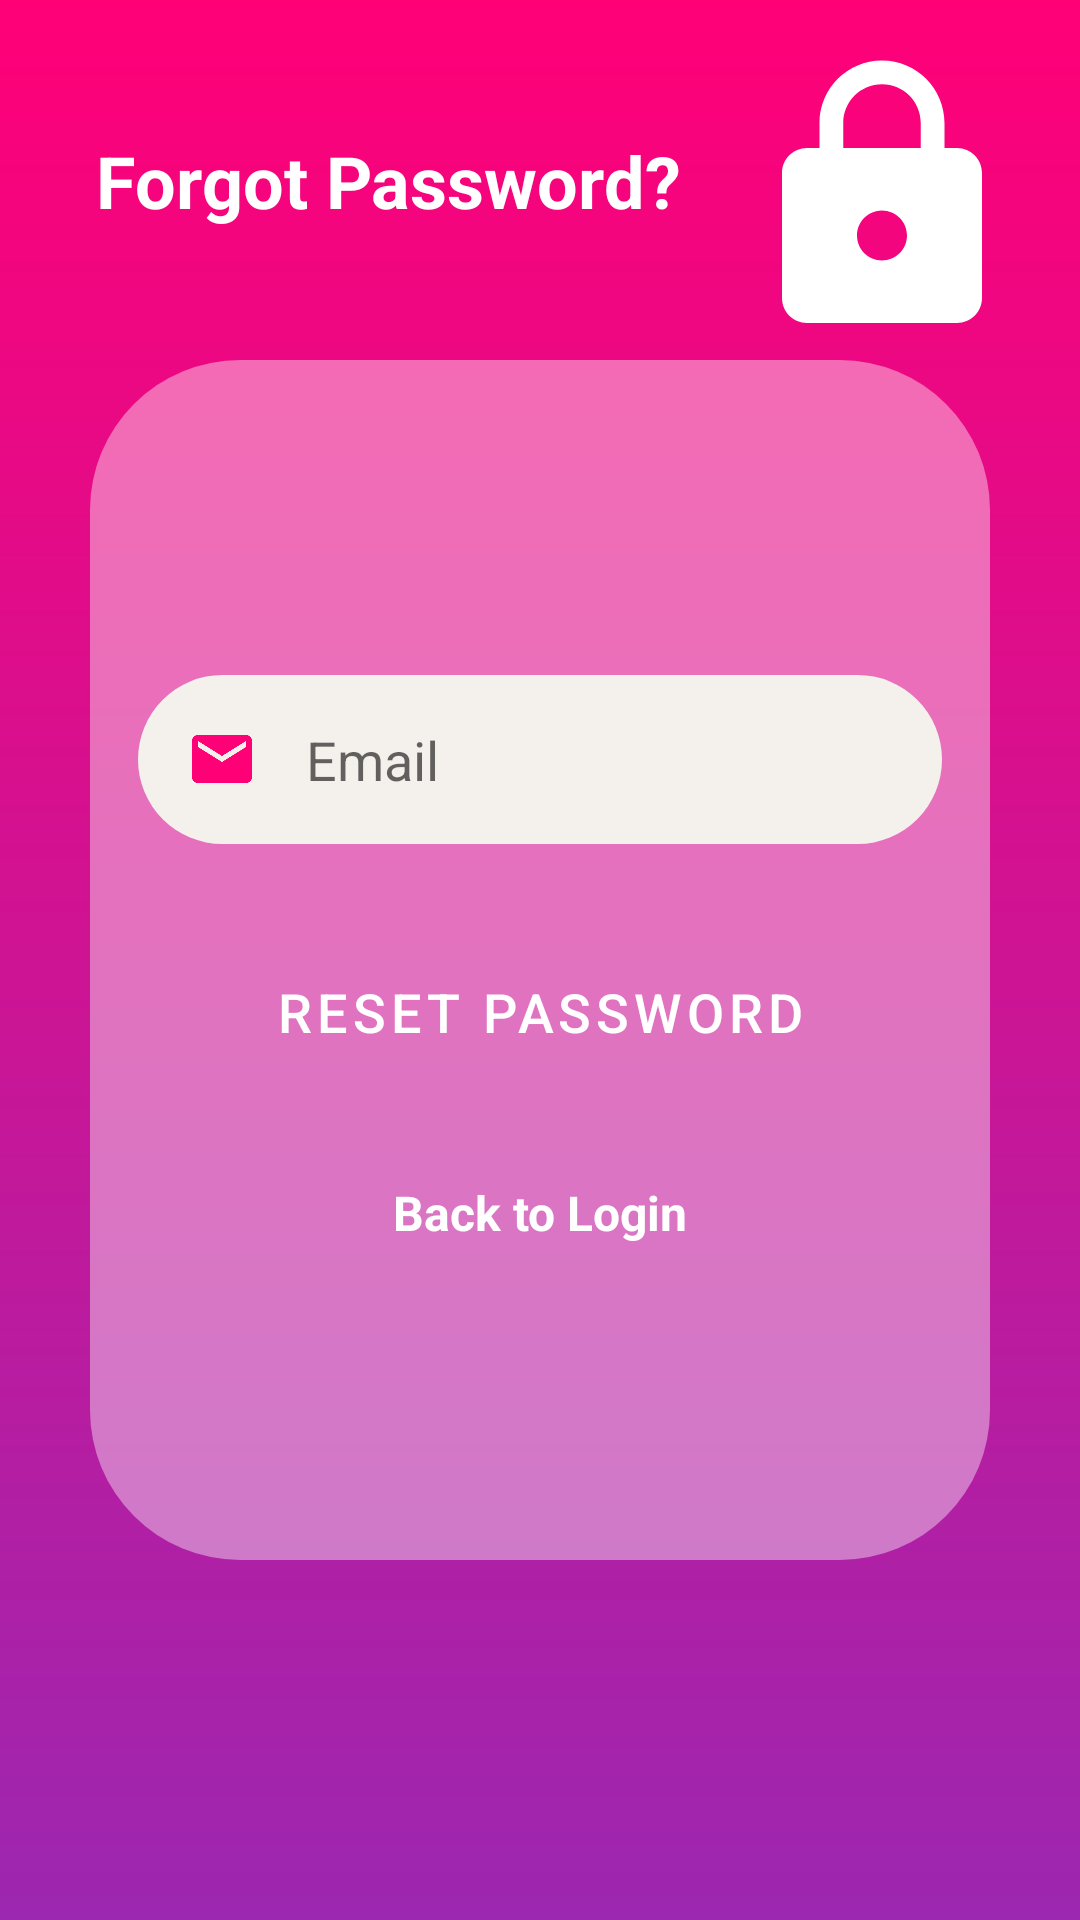

Screen size 1080px x 1920px. Icon name, then its box in pixels as bbox=(x1, y1, x2, y2):
password login: bbox=(782, 60, 982, 323)
